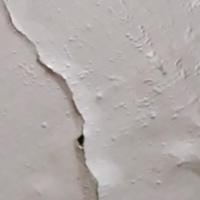crack: (1, 5, 103, 195)
